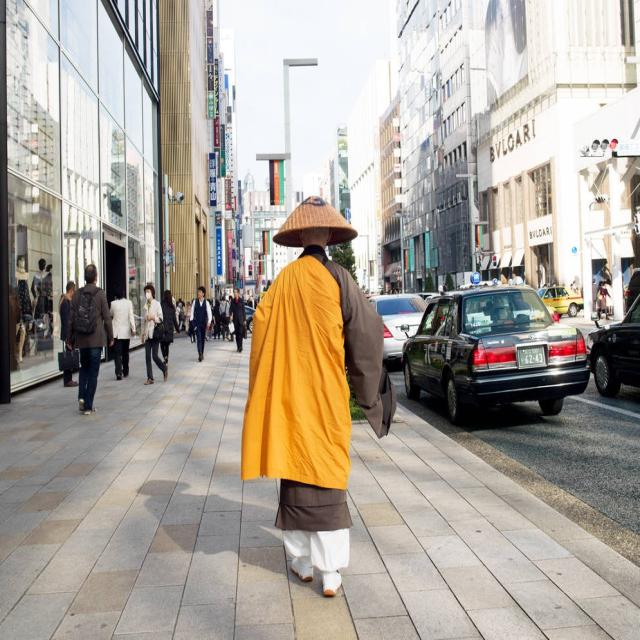body: (240, 193, 398, 600), (65, 263, 113, 415), (8, 252, 56, 366), (140, 283, 168, 386), (109, 284, 136, 381), (57, 281, 80, 388), (188, 285, 213, 363), (160, 288, 182, 366), (227, 285, 248, 353), (174, 295, 194, 333), (218, 295, 230, 342), (423, 310, 443, 334), (600, 281, 612, 320), (604, 277, 614, 317), (212, 297, 221, 340), (228, 294, 235, 342), (619, 274, 626, 315), (592, 277, 599, 312), (244, 296, 262, 309), (481, 299, 498, 312), (567, 280, 582, 293), (540, 280, 560, 287), (544, 289, 556, 299), (205, 328, 212, 342), (388, 288, 403, 294), (206, 296, 212, 308), (189, 333, 196, 343), (598, 280, 602, 287)
